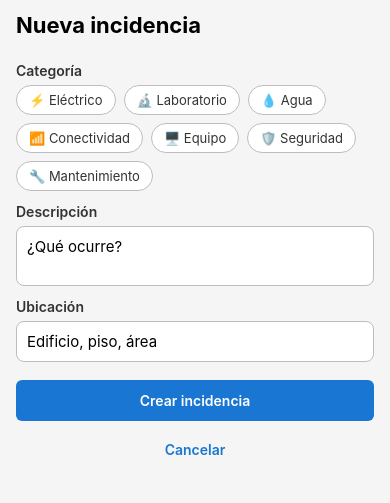
Test: CrearIncidencia form › submits the normalized input with a generated key and reports the created id
The width and height of the screenshot is (390, 503).
Click the element with test id "categoria-water": (287, 100) [248,85,326,115]
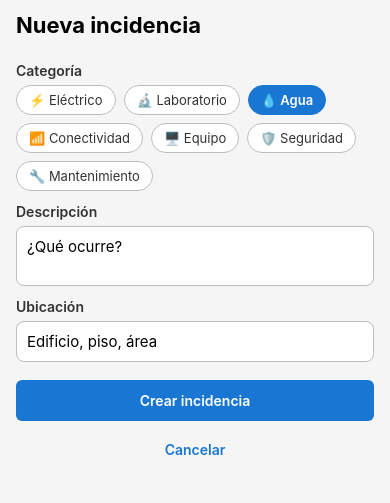
In the text box with test id "input-descripcion": (195, 256) [16,226,374,286], type "  Fuga simulada  "
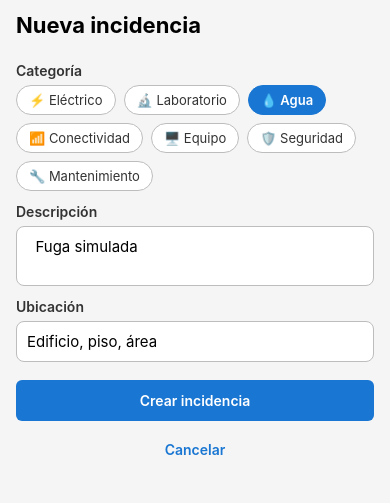
In the field with test id "input-ubicacion": (195, 342) [16,321,374,362], type "Zona manual ficticia"
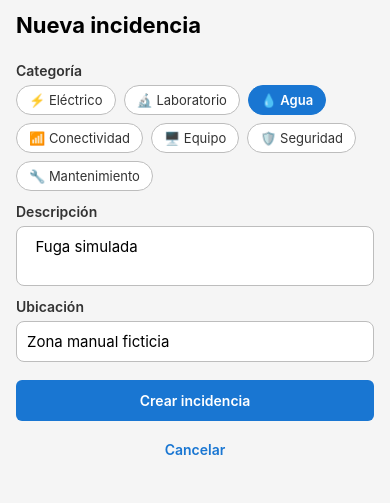
Click the element with test id "crear-enviar": (195, 400) [16,380,374,421]
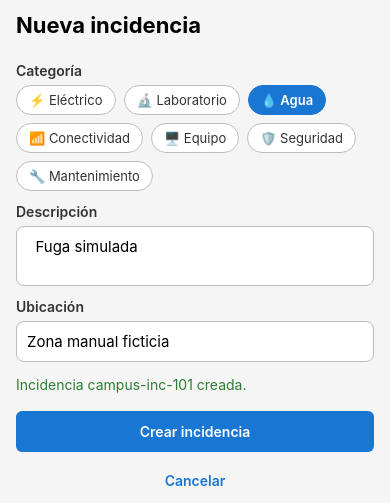
Now the text "Incidencia campus-inc-101 creada." is shown, box [16,376,246,393]
